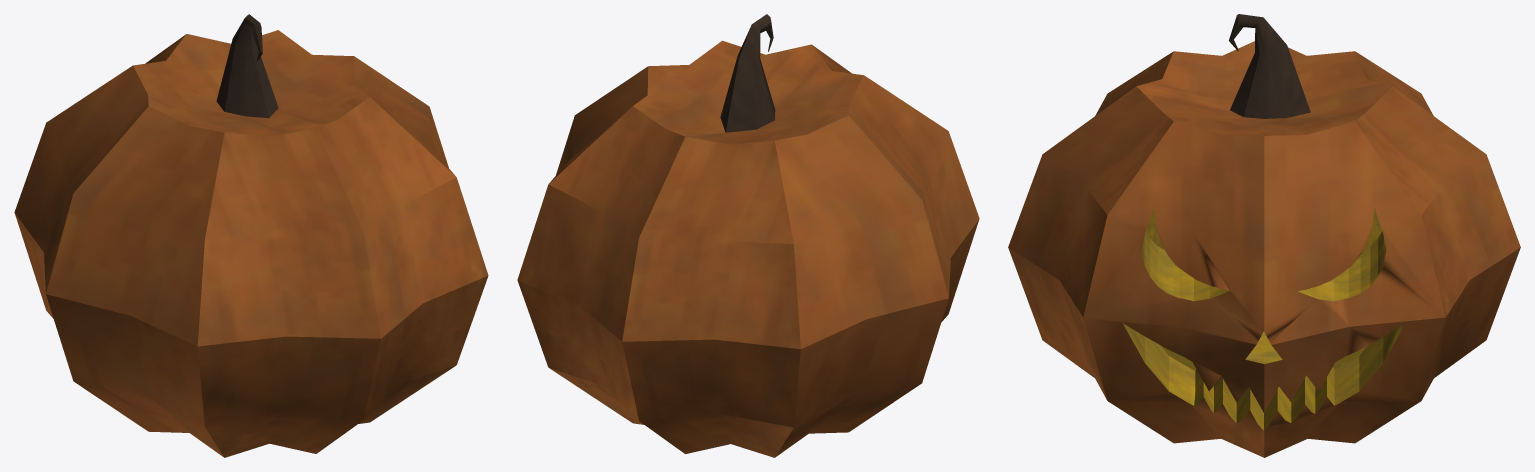
The model's file is JackOlantern_1.fbx.
The picture shows the model from 3 angles, left to right: view 1: azimuth 30°, elevation 25°; view 2: azimuth 150°, elevation 25°; view 3: azimuth 270°, elevation 25°; orthographic projection. The views are drawn at different scales.
Visible parts, largest first — view 1: JackOLantern_1; view 2: JackOLantern_1; view 3: JackOLantern_1.
Boxes of the visible parts, x1=… form: JackOLantern_1: x1=14, y1=14, x2=488, y2=457; JackOLantern_1: x1=517, y1=14, x2=979, y2=457; JackOLantern_1: x1=1008, y1=14, x2=1520, y2=457.
Size of the model in its own units: 198 by 184 by 218.
